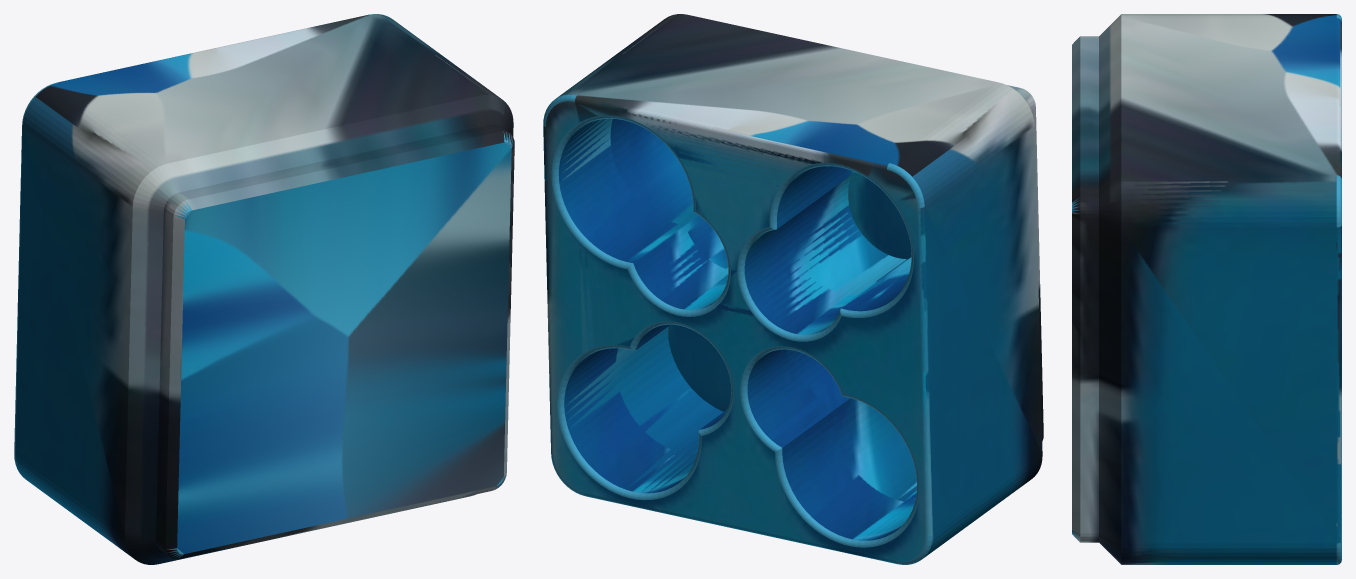
The model's file is battery-holder.obj.
3 views of the same model, side by side, from view 1: azimuth 30°, elevation 25°; view 2: azimuth 150°, elevation 25°; view 3: azimuth 270°, elevation 25° (orthographic). The views are drawn at different scales.
Visible parts, largest first — view 1: battery-holder; view 2: battery-holder; view 3: battery-holder.
Part boxes in pixels (x1,y1,x2,y2): battery-holder: [14, 14, 514, 564]; battery-holder: [543, 14, 1043, 564]; battery-holder: [1072, 14, 1341, 564].
Size of the model in its own units: 0.0423 by 0.0423 by 0.026.
Materials: 1 (1 with a texture image).
